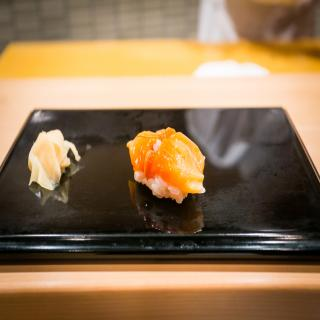Sushi: (123, 124, 204, 203)
